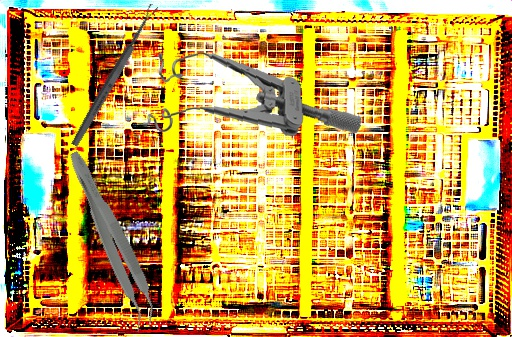Speculum: (135, 39, 364, 148)
Surgical Spoon: (69, 3, 160, 148)
Tissue Forceps: (56, 147, 166, 333)
